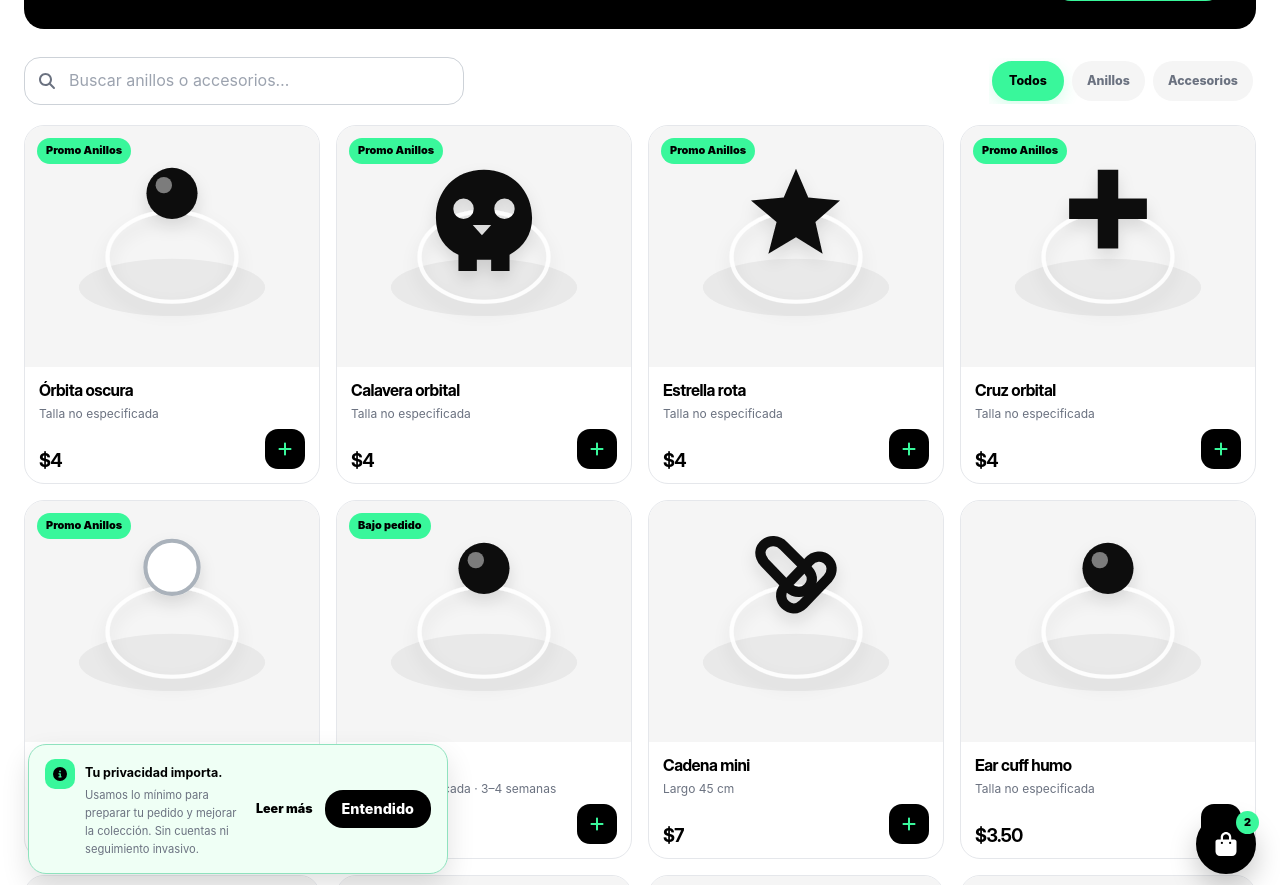
Test: Store › keeps Yummy as a direct selection without expanding details
(page scrolled)
Click the button named "agregar órbita oscura".
click(285, 449)  # box [265, 429, 305, 469]
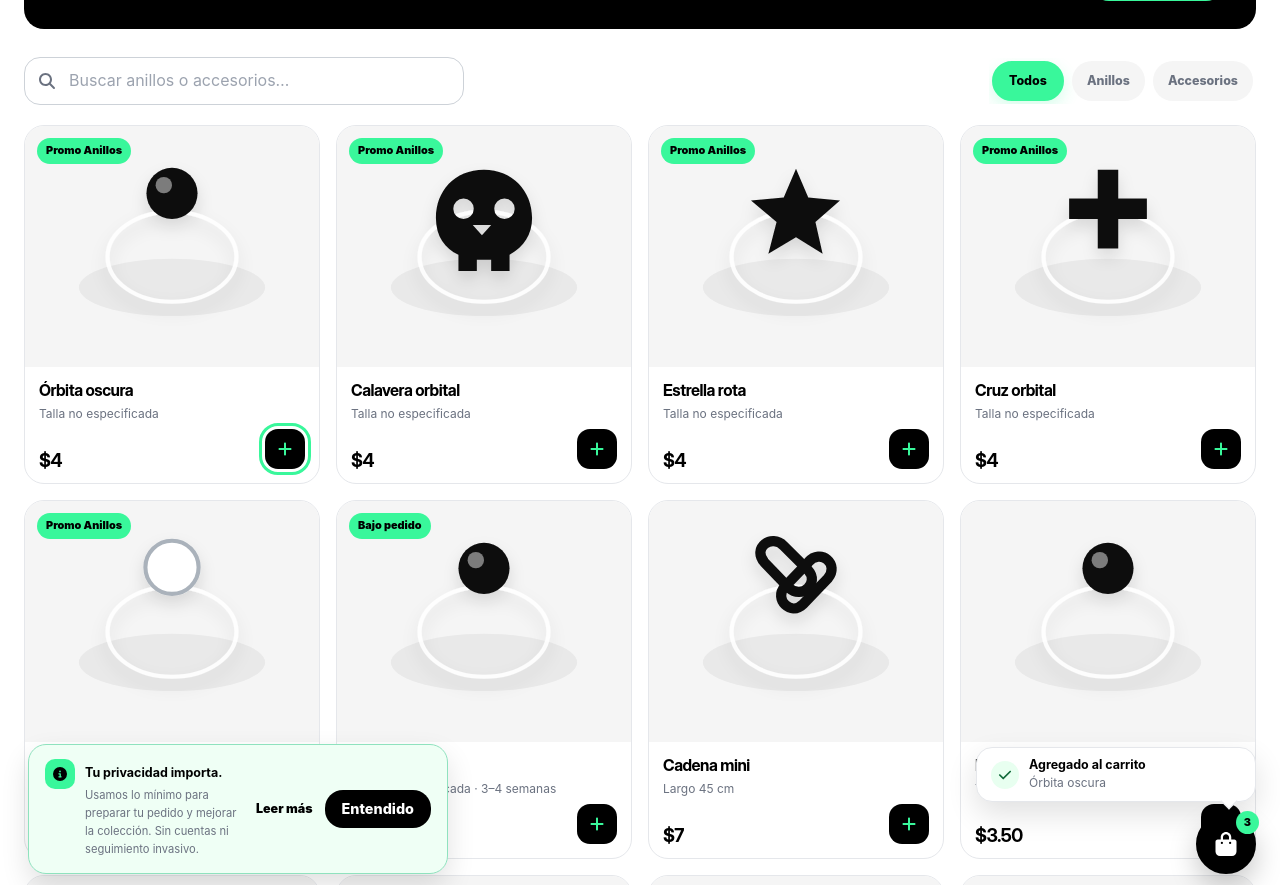
Click the button named "Abrir carrito".
click(1226, 844)  # box [1196, 814, 1256, 874]
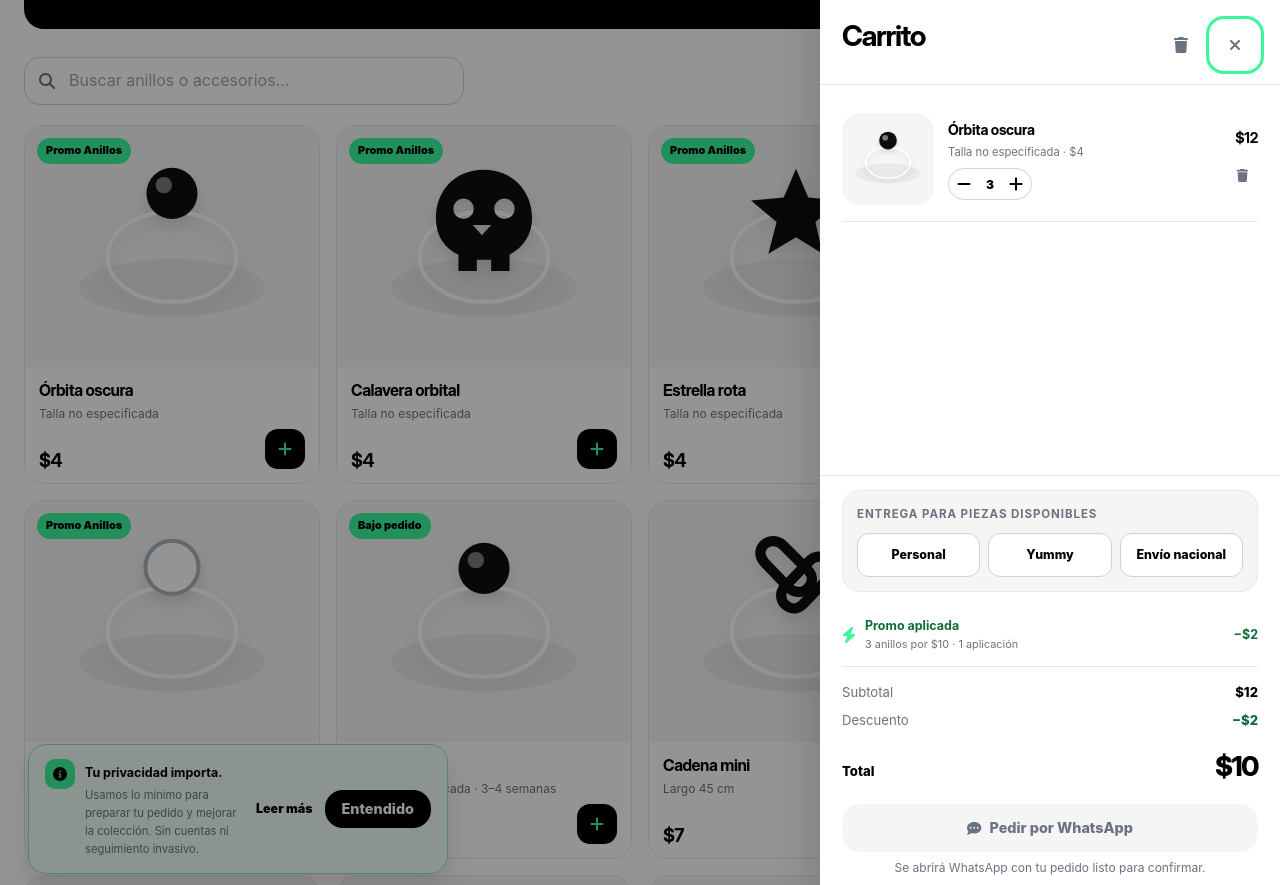
Click the button "Yummy".
click(1050, 555)  # box [988, 533, 1112, 577]
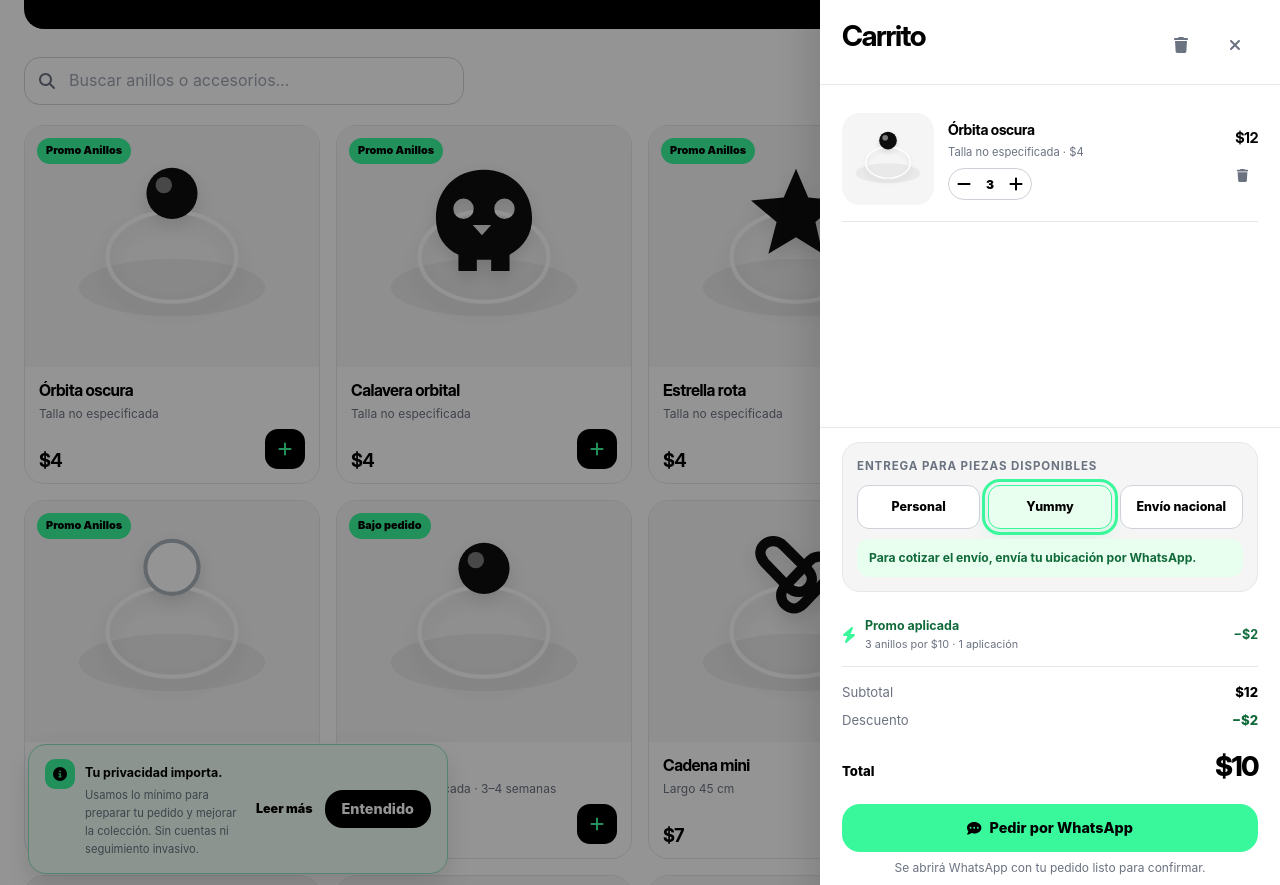
Expected: the text "Para cotizar el envío, envía tu ubicación por WhatsApp." is shown, [857, 539, 1243, 577]
